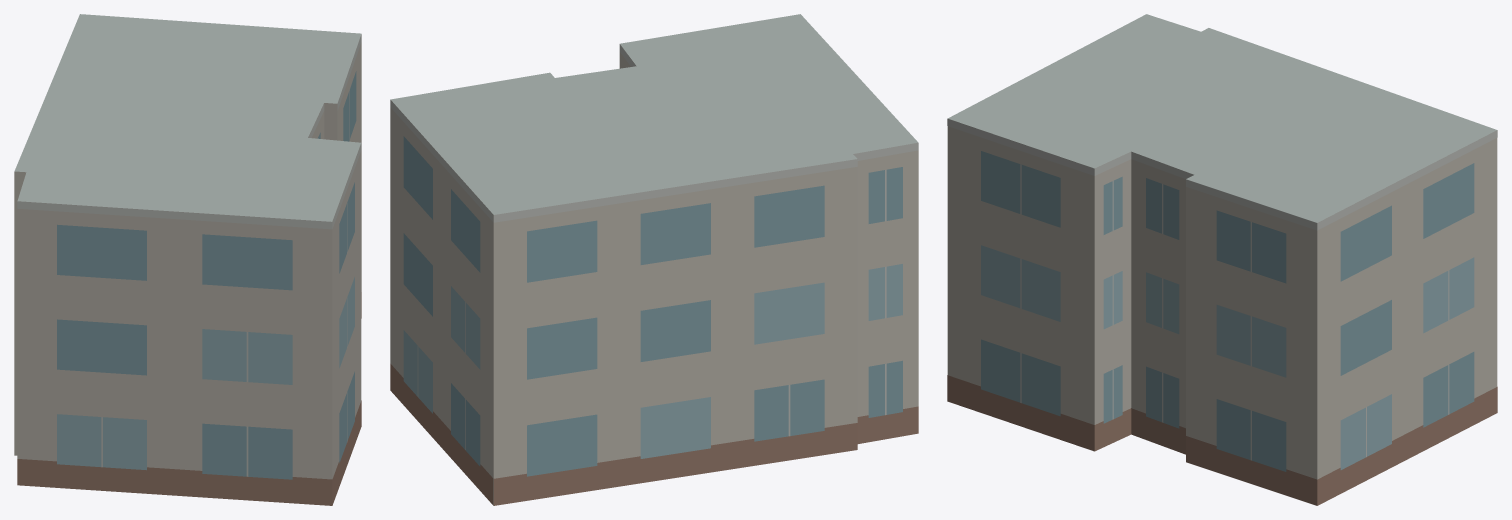
Rendered from survey-upis-32519267.glb.
The picture shows the model from 3 angles, left to right: view 1: azimuth 30°, elevation 25°; view 2: azimuth 150°, elevation 25°; view 3: azimuth 270°, elevation 25°; orthographic projection. The views are drawn at different scales.
Visible parts, largest first — view 1: survey-upis-32519267.tmp; view 2: survey-upis-32519267.tmp; view 3: survey-upis-32519267.tmp.
Boxes of the visible parts, <box> form: survey-upis-32519267.tmp: <box>14,14,361,505</box>; survey-upis-32519267.tmp: <box>390,14,918,505</box>; survey-upis-32519267.tmp: <box>947,14,1497,505</box>.
Bounding box in the file's own units: 14.5 × 9.15 × 16.13.
